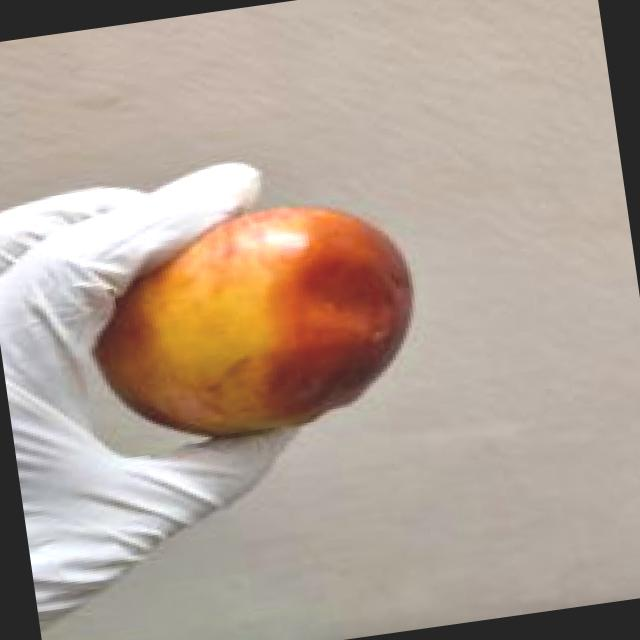Rotten_Apple: (81, 192, 437, 446)
